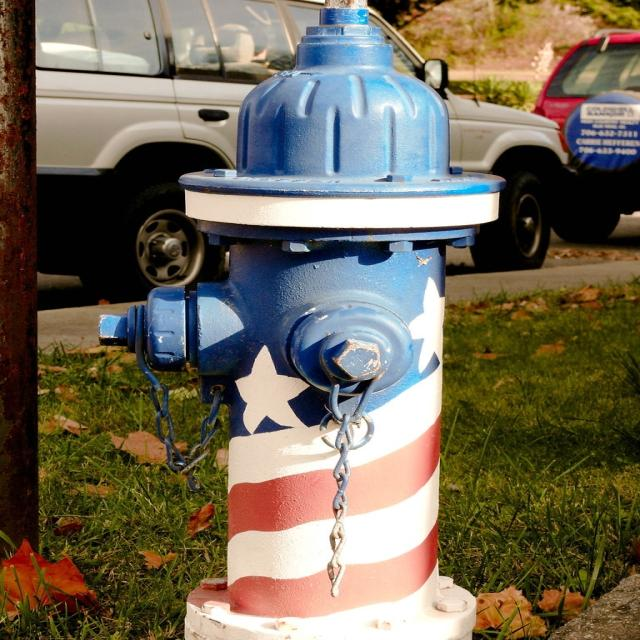fire_hydrant: (117, 9, 575, 640)
